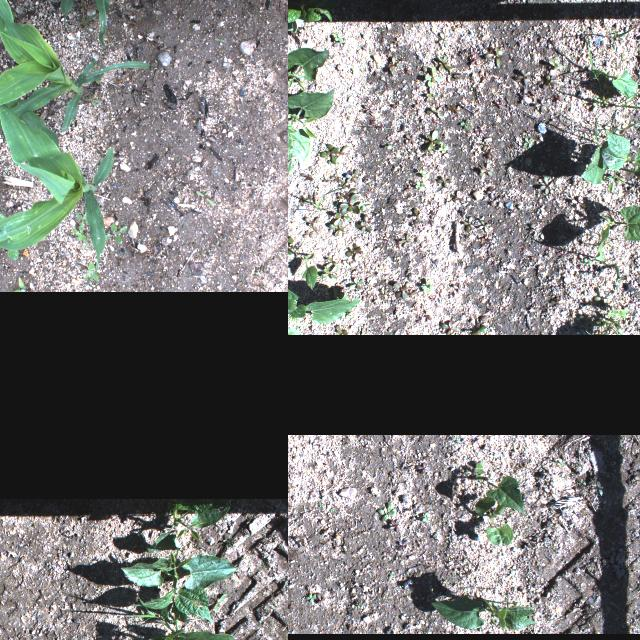crop: (0, 0, 151, 179), (0, 96, 113, 288), (29, 0, 141, 51), (120, 552, 238, 590), (146, 500, 230, 552), (129, 600, 235, 640), (288, 275, 359, 334), (578, 127, 640, 192), (288, 87, 333, 173), (430, 596, 536, 630), (132, 584, 212, 624), (595, 205, 640, 263), (288, 40, 328, 100), (474, 496, 512, 546), (484, 476, 524, 514), (288, 0, 332, 34), (594, 68, 638, 100), (301, 254, 317, 290)
weed: (126, 596, 172, 632), (0, 213, 18, 261), (316, 144, 350, 166), (336, 188, 359, 214), (104, 223, 128, 245), (326, 216, 348, 238), (483, 46, 505, 66), (318, 255, 338, 277), (592, 288, 616, 306), (406, 206, 426, 227), (422, 64, 442, 84), (377, 503, 397, 523), (424, 128, 442, 150), (590, 94, 612, 112), (465, 318, 489, 334), (537, 176, 555, 196), (194, 190, 216, 206), (388, 54, 404, 76), (345, 276, 367, 292), (568, 314, 590, 330), (538, 72, 556, 91), (341, 168, 362, 184), (391, 282, 412, 298), (302, 214, 320, 232), (514, 71, 534, 87), (437, 320, 459, 334), (462, 460, 484, 474), (434, 54, 451, 72), (458, 216, 477, 232), (356, 216, 372, 234), (570, 194, 586, 212), (84, 262, 98, 282), (415, 278, 435, 292), (606, 308, 628, 320), (434, 177, 454, 190), (345, 245, 361, 261), (478, 162, 494, 178), (72, 224, 86, 242), (12, 276, 26, 292), (424, 88, 438, 104), (474, 70, 490, 84), (296, 196, 312, 210), (482, 187, 498, 201), (212, 594, 226, 610), (414, 315, 434, 325), (534, 96, 548, 110), (86, 94, 102, 106), (396, 234, 412, 246), (412, 180, 428, 192), (546, 298, 562, 310), (610, 29, 626, 41), (586, 44, 594, 68), (76, 212, 90, 225), (437, 32, 448, 48), (327, 326, 349, 334), (404, 132, 416, 146), (456, 118, 470, 130), (288, 231, 294, 259), (382, 141, 396, 153), (423, 108, 443, 116), (391, 98, 401, 114), (482, 150, 498, 160), (464, 46, 474, 62), (328, 32, 344, 42), (450, 283, 466, 293), (580, 256, 596, 266), (415, 462, 431, 472), (316, 592, 326, 608), (436, 141, 449, 153), (478, 221, 489, 235), (522, 137, 534, 149), (314, 192, 322, 210), (387, 520, 399, 532), (299, 173, 313, 183), (222, 534, 232, 548), (304, 593, 318, 603), (412, 169, 428, 177), (548, 58, 560, 68), (396, 540, 408, 550), (328, 175, 339, 185), (556, 458, 566, 468), (418, 513, 428, 523), (362, 104, 374, 112), (596, 480, 602, 496), (475, 476, 489, 482), (368, 119, 376, 128), (301, 232, 313, 238), (450, 437, 460, 443), (213, 38, 225, 42), (579, 479, 587, 485), (328, 507, 334, 513), (317, 502, 323, 508)
